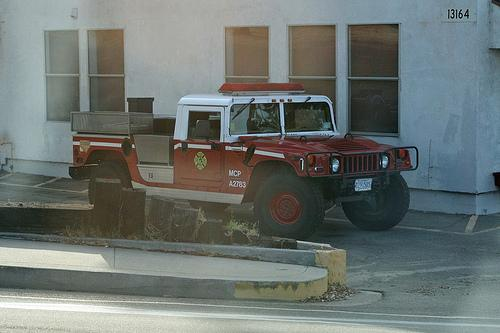truck: (68, 82, 419, 242)
